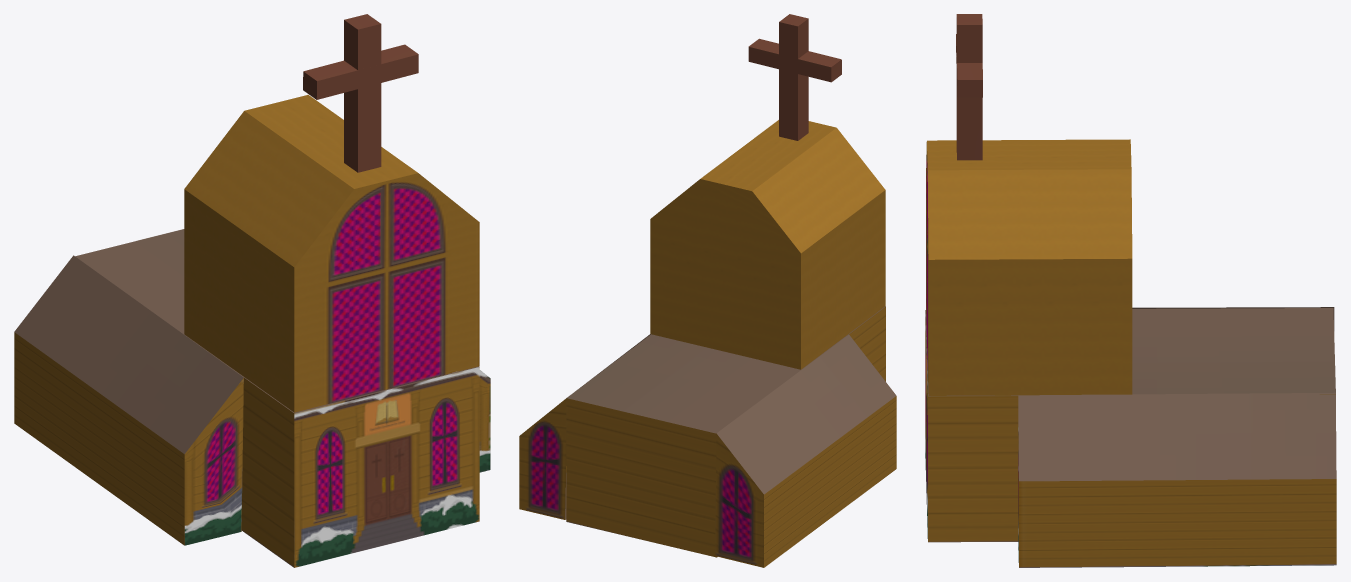
The model's file is sp_church.glb.
The picture shows the model from 3 angles, left to right: view 1: azimuth 30°, elevation 25°; view 2: azimuth 150°, elevation 25°; view 3: azimuth 270°, elevation 25°; orthographic projection. The views are drawn at different scales.
Parts seen in each view (by area): view 1: Object_2; view 2: Object_2; view 3: Object_2.
Part boxes in pixels (bbox=[...]): Object_2: bbox=[14, 14, 490, 567]; Object_2: bbox=[519, 14, 896, 567]; Object_2: bbox=[925, 14, 1336, 567].
Bounding box in the file's own units: 6.13 × 9.58 × 7.45.
Materials: 1 (1 with a texture image).
